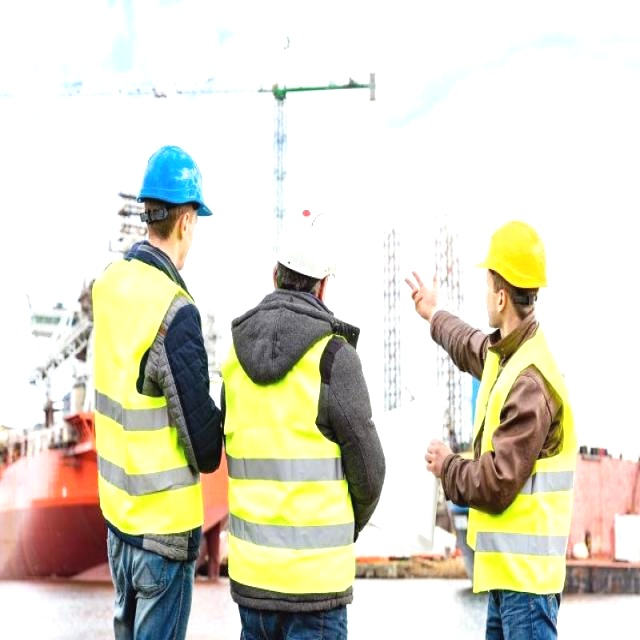Con_Casco: (274, 202, 341, 292)
Con_Chaleco: (222, 320, 363, 595), (93, 255, 207, 534), (457, 332, 575, 583)
